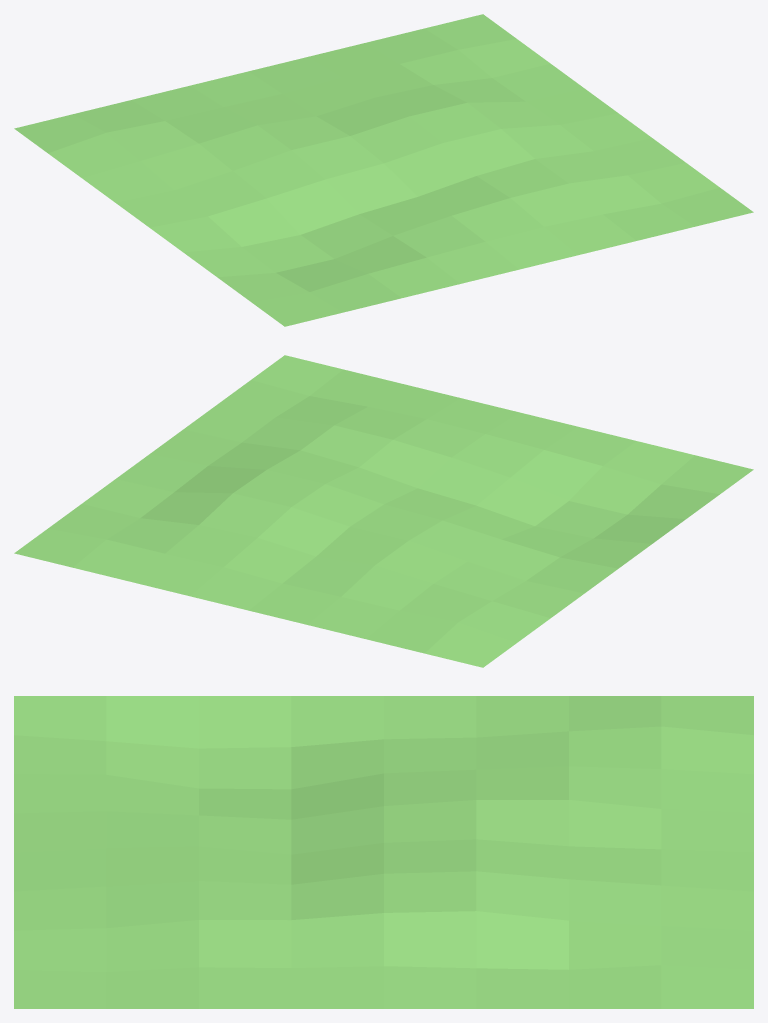
The model's file is Env_Ground_1.fbx.
The picture shows the model from 3 angles, top to bottom: view 1: azimuth 30°, elevation 25°; view 2: azimuth 150°, elevation 25°; view 3: azimuth 270°, elevation 25°; orthographic projection. The views are drawn at different scales.
Parts seen in each view (by area): view 1: Plane; view 2: Plane; view 3: Plane.
Part boxes in pixels (box(x1,y1,x2,y2)): Plane: box(14, 14, 753, 326); Plane: box(14, 355, 753, 667); Plane: box(14, 696, 753, 1008).
Bounding box in the file's own units: 800 × 42.07 × 800.
